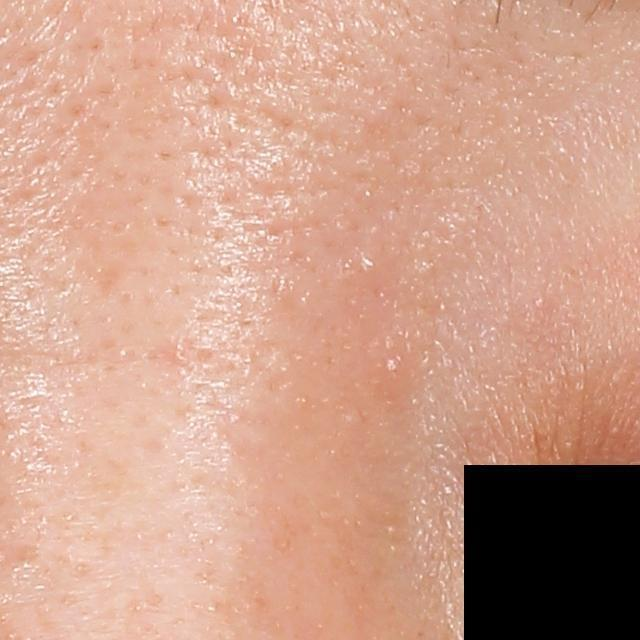comedo: (378, 350, 407, 382)
